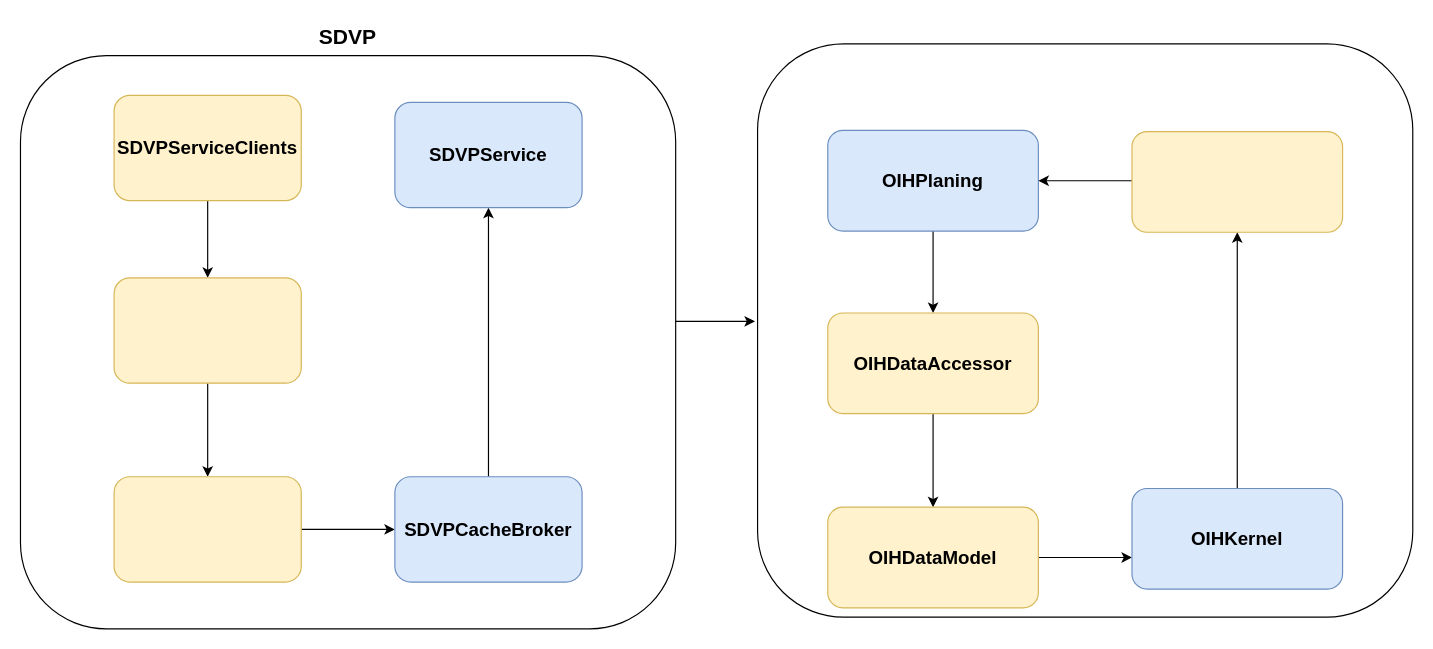
The diagram is 1433 pixels wide and 649 high, and some of its shapes have lost their labels. Here are the shapes that lost their labels. From the top down, the centre of each, then its label:
the point at 1237,181: OIHAppCore
the point at 207,330: SDVPServiceDataA dapter
the point at 207,529: SDVPCacheModel
